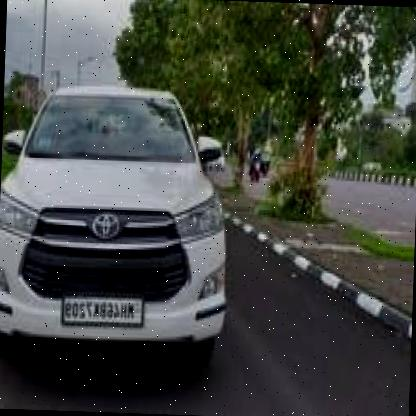car: (0, 76, 239, 371)
